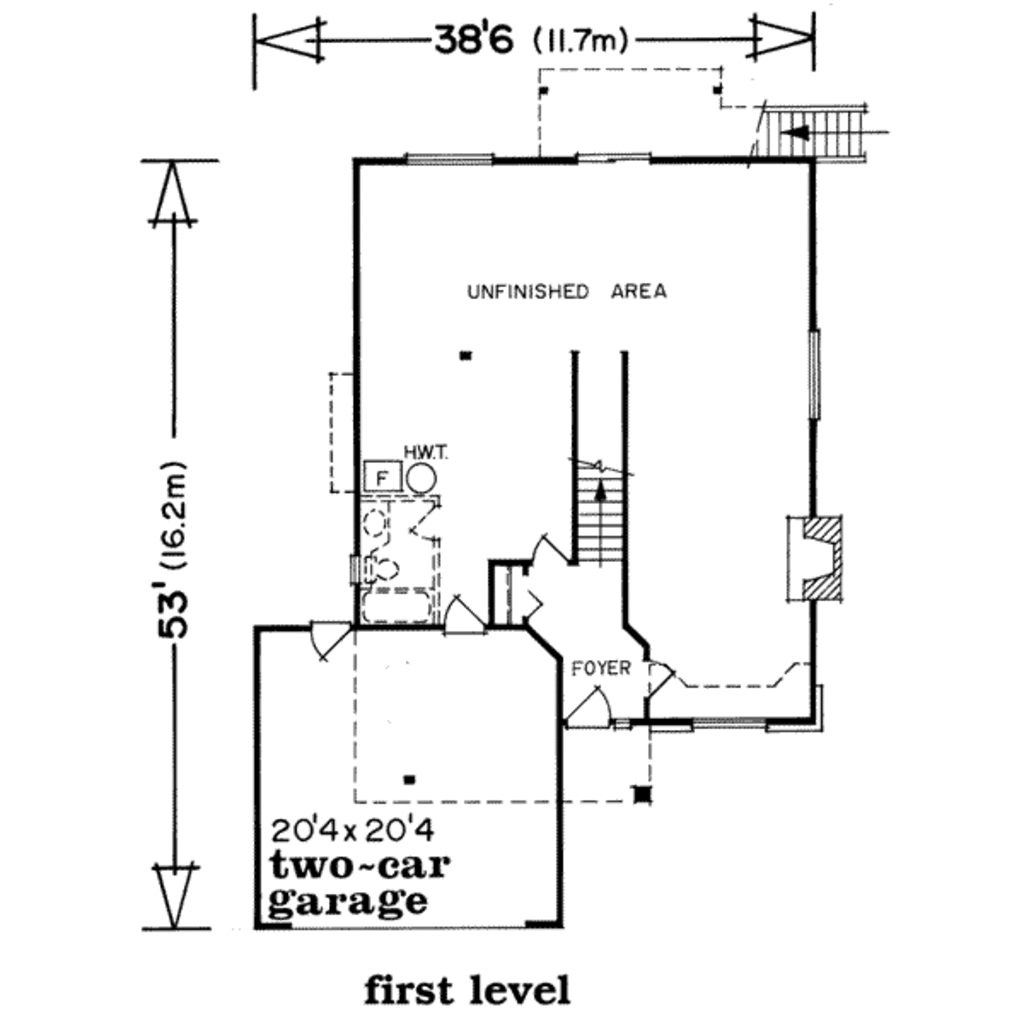door: (560, 676, 616, 732), (525, 520, 572, 573), (443, 595, 491, 643), (311, 611, 352, 657)
large_sink: (346, 549, 403, 582)
small_sink: (341, 492, 392, 547)
stairs: (562, 430, 651, 630), (730, 97, 906, 174)
tub: (354, 581, 438, 627)
window: (786, 324, 838, 433), (687, 706, 786, 744), (572, 141, 664, 181), (403, 143, 500, 179)
